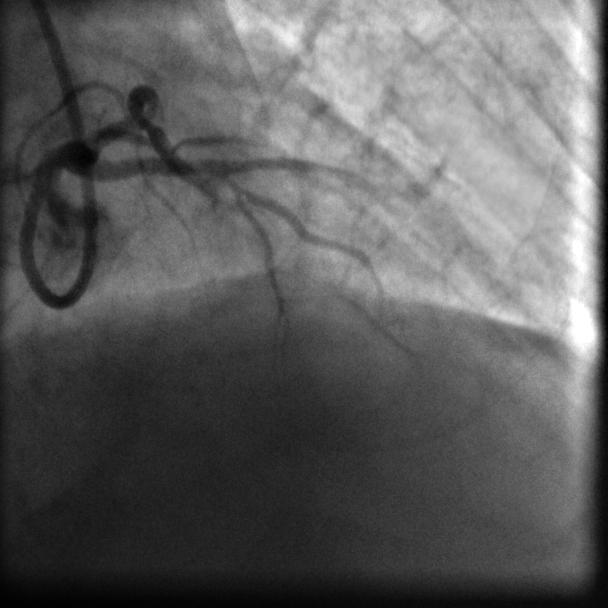Stenosis: (135, 104, 159, 138)
